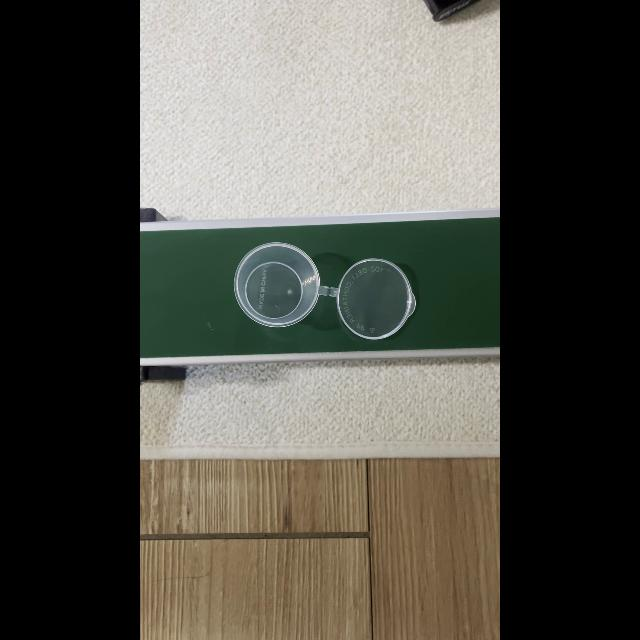clean: (238, 247, 316, 327), (339, 262, 417, 340)
